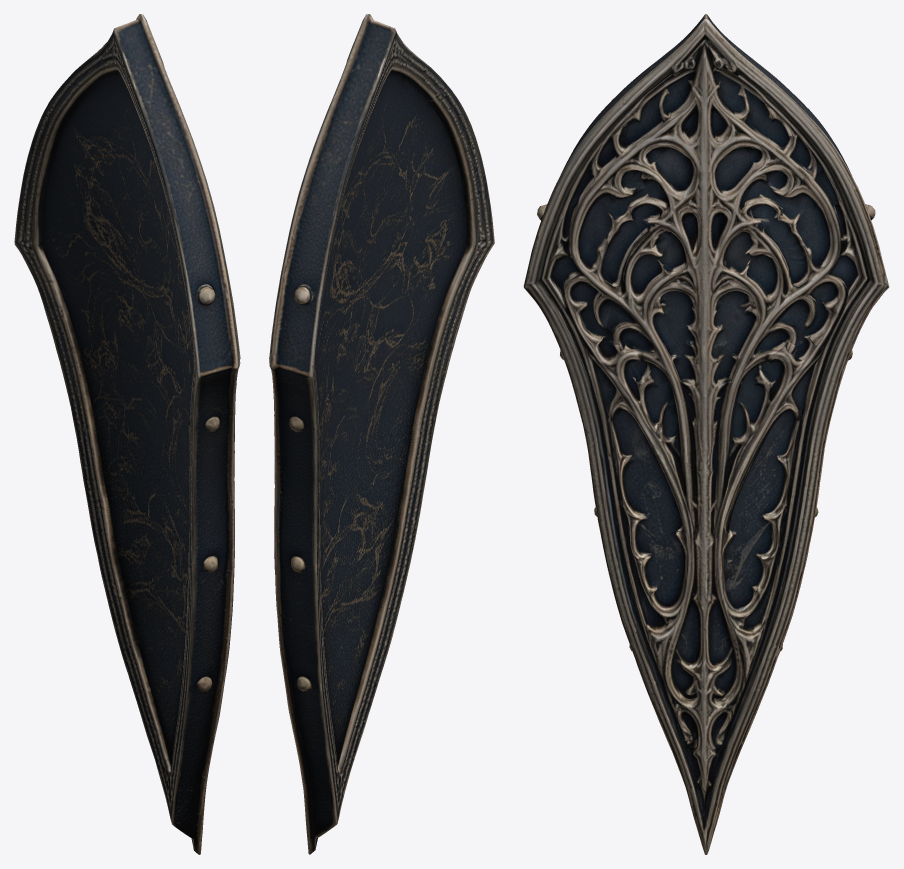
The model's file is player-shield.glb.
3 views of the same model, side by side, from view 1: azimuth 30°, elevation 25°; view 2: azimuth 150°, elevation 25°; view 3: azimuth 270°, elevation 25° (orthographic). The views are drawn at different scales.
Visible parts, largest first — view 1: tripo_node_0fd40a83-c46a-480a-93ff-b809c587dfc2; view 2: tripo_node_0fd40a83-c46a-480a-93ff-b809c587dfc2; view 3: tripo_node_0fd40a83-c46a-480a-93ff-b809c587dfc2.
Boxes of the visible parts, <box> form: tripo_node_0fd40a83-c46a-480a-93ff-b809c587dfc2: <box>14,14,240,854</box>; tripo_node_0fd40a83-c46a-480a-93ff-b809c587dfc2: <box>269,14,494,854</box>; tripo_node_0fd40a83-c46a-480a-93ff-b809c587dfc2: <box>523,14,889,854</box>.
Bounding box in the file's own units: 0.1147 × 0.9786 × 0.4009.
Materials: 1 (1 with a texture image).
